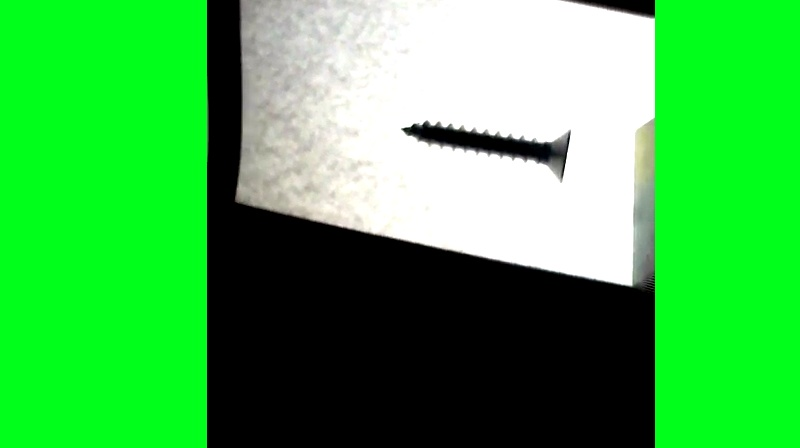S001: (398, 114, 572, 188)
